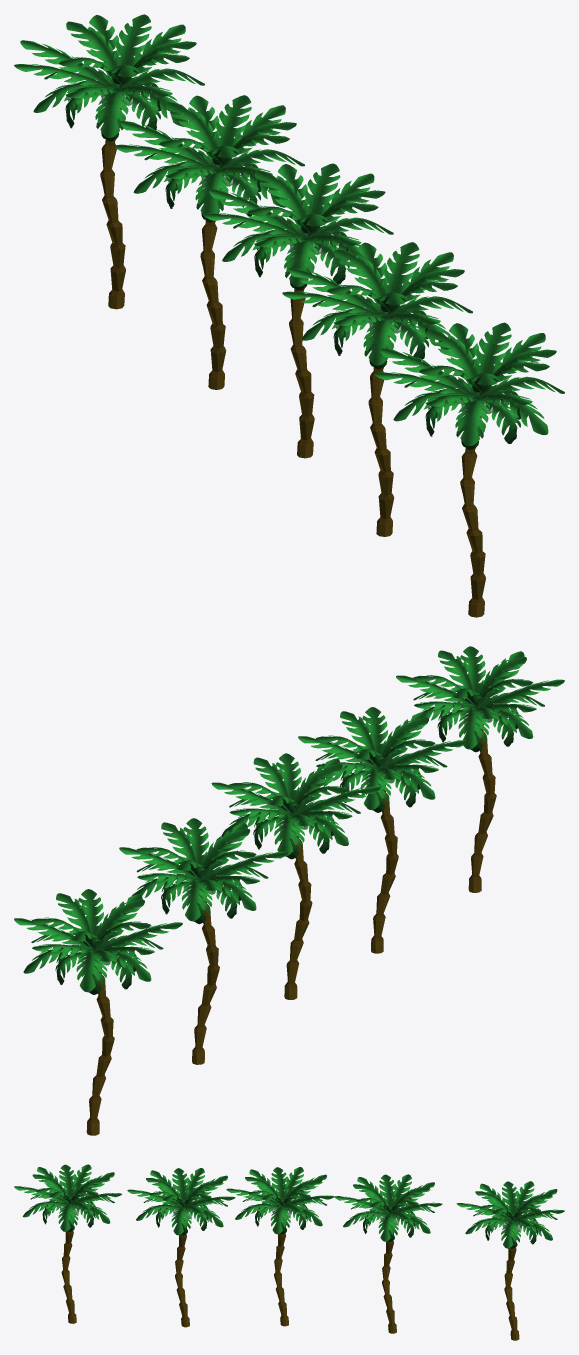
File: line-of-trees.obj
3 renders of one model, top to bottom at view 1: azimuth 30°, elevation 25°; view 2: azimuth 150°, elevation 25°; view 3: azimuth 270°, elevation 25°, orthographic. The views are drawn at different scales.
Visible parts, largest first — view 1: Cube.010_Cube.003_Cube.010_Cube.019, Cube.010_Cube.004_Cube.010_Cube.020, Cube.010_Cube.001_Cube.010_Cube.017, Cube.010_Cube.002_Cube.010_Cube.018, Cube.010_Cube.014; view 2: Cube.010_Cube.004_Cube.010_Cube.020, Cube.010_Cube.002_Cube.010_Cube.018, Cube.010_Cube.014, Cube.010_Cube.003_Cube.010_Cube.019, Cube.010_Cube.001_Cube.010_Cube.017; view 3: Cube.010_Cube.004_Cube.010_Cube.020, Cube.010_Cube.003_Cube.010_Cube.019, Cube.010_Cube.001_Cube.010_Cube.017, Cube.010_Cube.014, Cube.010_Cube.002_Cube.010_Cube.018.
Part boxes in pixels (x1=…): Cube.010_Cube.003_Cube.010_Cube.019: x1=374, y1=322, x2=564, y2=617; Cube.010_Cube.004_Cube.010_Cube.020: x1=14, y1=14, x2=204, y2=309; Cube.010_Cube.001_Cube.010_Cube.017: x1=282, y1=242, x2=472, y2=536; Cube.010_Cube.002_Cube.010_Cube.018: x1=114, y1=95, x2=304, y2=389; Cube.010_Cube.014: x1=202, y1=163, x2=393, y2=458; Cube.010_Cube.004_Cube.010_Cube.020: x1=14, y1=889, x2=182, y2=1135; Cube.010_Cube.002_Cube.010_Cube.018: x1=119, y1=818, x2=287, y2=1064; Cube.010_Cube.014: x1=211, y1=753, x2=380, y2=999; Cube.010_Cube.003_Cube.010_Cube.019: x1=396, y1=646, x2=564, y2=892; Cube.010_Cube.001_Cube.010_Cube.017: x1=298, y1=707, x2=466, y2=953; Cube.010_Cube.004_Cube.010_Cube.020: x1=456, y1=1181, x2=564, y2=1340; Cube.010_Cube.003_Cube.010_Cube.019: x1=14, y1=1164, x2=121, y2=1323; Cube.010_Cube.001_Cube.010_Cube.017: x1=127, y1=1168, x2=235, y2=1327; Cube.010_Cube.014: x1=226, y1=1167, x2=334, y2=1326; Cube.010_Cube.002_Cube.010_Cube.018: x1=334, y1=1174, x2=442, y2=1333.
Bounding box in the file's own units: 11.47 × 13.68 × 46.01.
